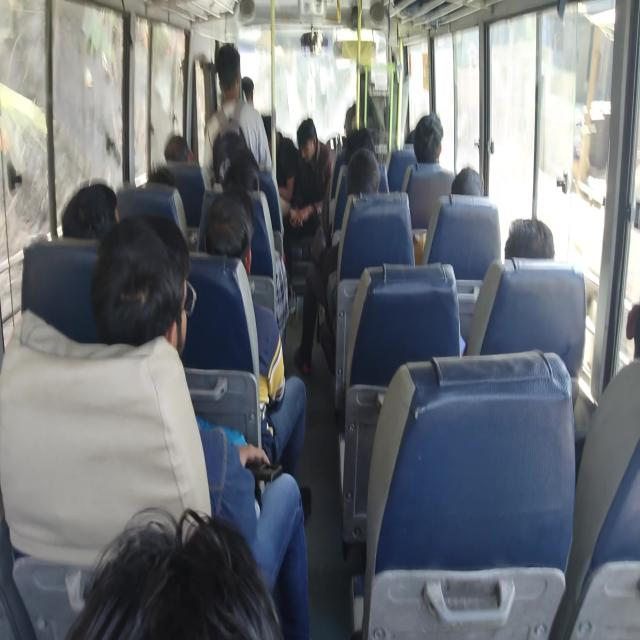person: (98, 499, 272, 640), (113, 226, 194, 353), (208, 190, 252, 283), (498, 212, 555, 276), (59, 172, 116, 230), (610, 283, 640, 345), (413, 108, 442, 166), (255, 101, 289, 150), (344, 157, 387, 195), (222, 152, 266, 189), (445, 165, 487, 200), (346, 124, 379, 160), (217, 48, 242, 89), (146, 163, 176, 197), (298, 114, 324, 152), (164, 132, 193, 164), (241, 70, 252, 96)
